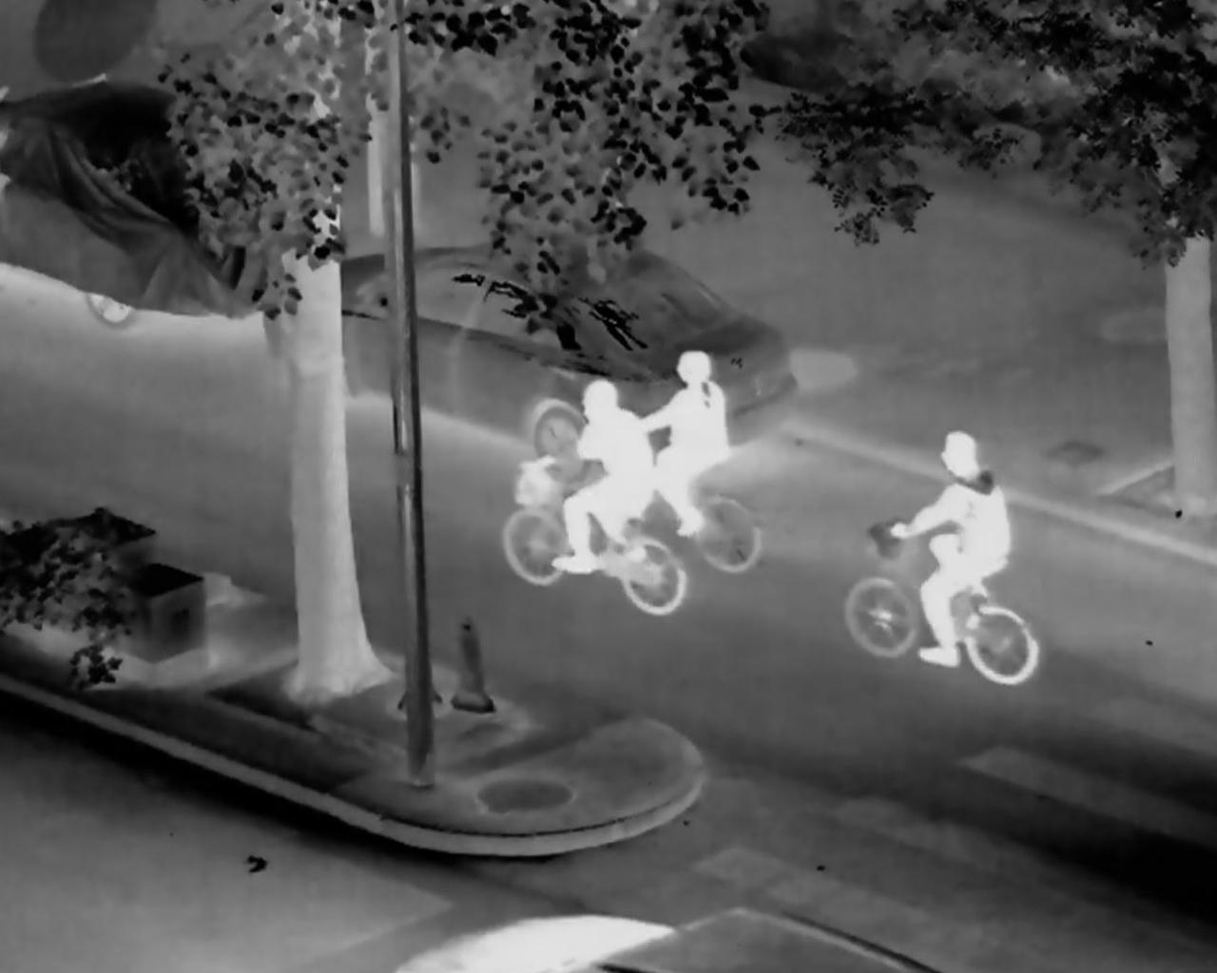person: (892, 429, 1013, 669), (560, 380, 654, 586), (639, 352, 728, 535)
